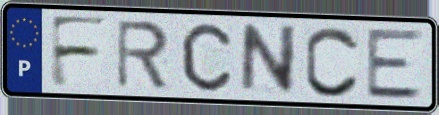C: (303, 23, 363, 100), (178, 21, 234, 94)
E: (364, 28, 426, 101)
F: (47, 13, 111, 91)
N: (237, 23, 300, 96)
R: (114, 18, 172, 91)
